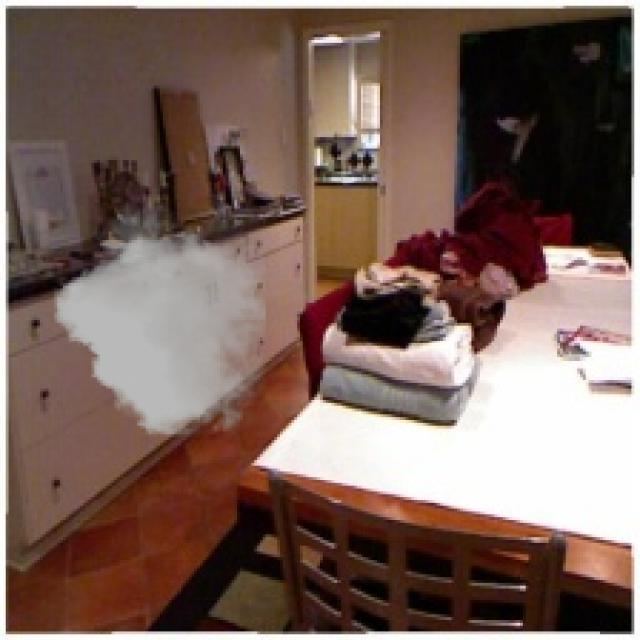Smoke: (54, 205, 266, 440)
